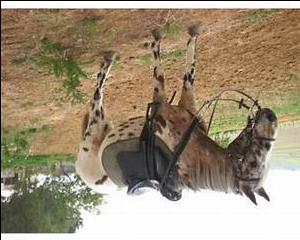horse: (74, 22, 278, 206)
